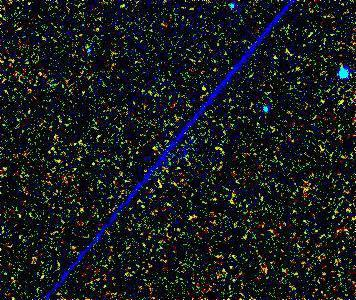star: (190, 73, 220, 103)
